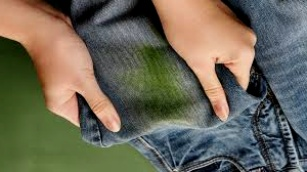earth: (140, 54, 179, 119)
